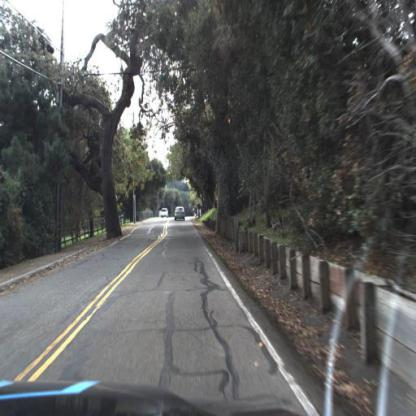car: (172, 204, 189, 225), (159, 207, 171, 222)
